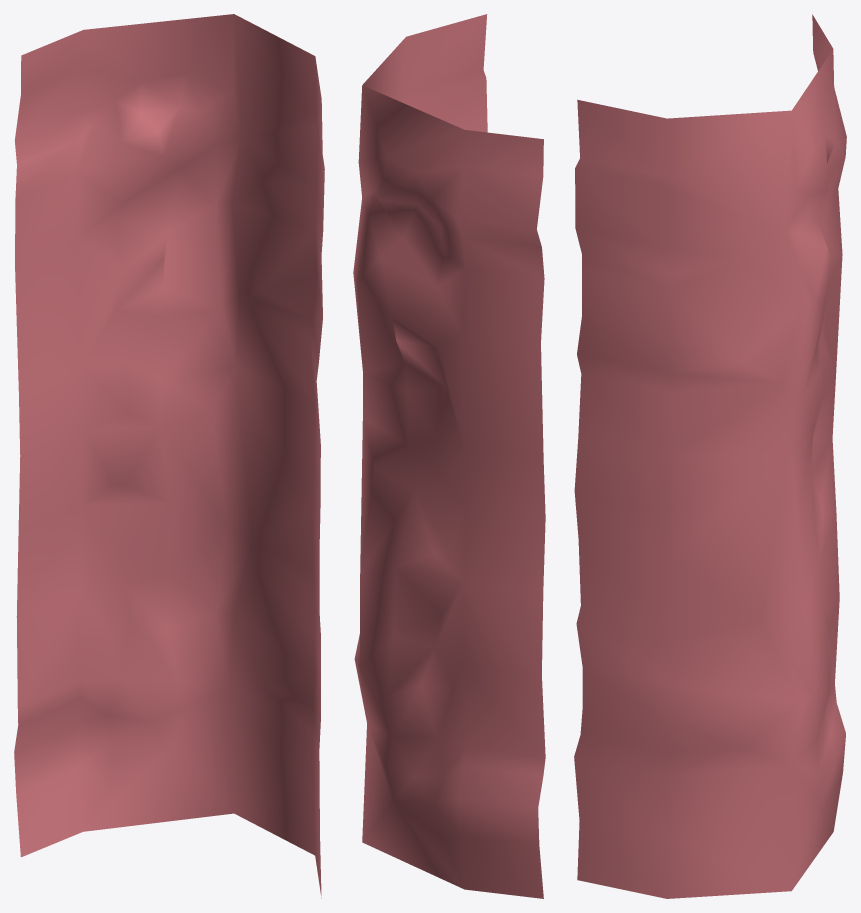
The model's file is 1x1 Corner.fbx.
The picture shows the model from 3 angles, left to right: view 1: azimuth 30°, elevation 25°; view 2: azimuth 150°, elevation 25°; view 3: azimuth 270°, elevation 25°; orthographic projection. The views are drawn at different scales.
Visible parts, largest first — view 1: 1x1 Lip_low; view 2: 1x1 Lip_low; view 3: 1x1 Lip_low.
Boxes of the visible parts, x1,y1,x2,y2 form: 1x1 Lip_low: (14,14,324,898); 1x1 Lip_low: (353,14,545,898); 1x1 Lip_low: (574,14,846,898).
Size of the model in its own units: 79.95 by 270 by 85.37.
